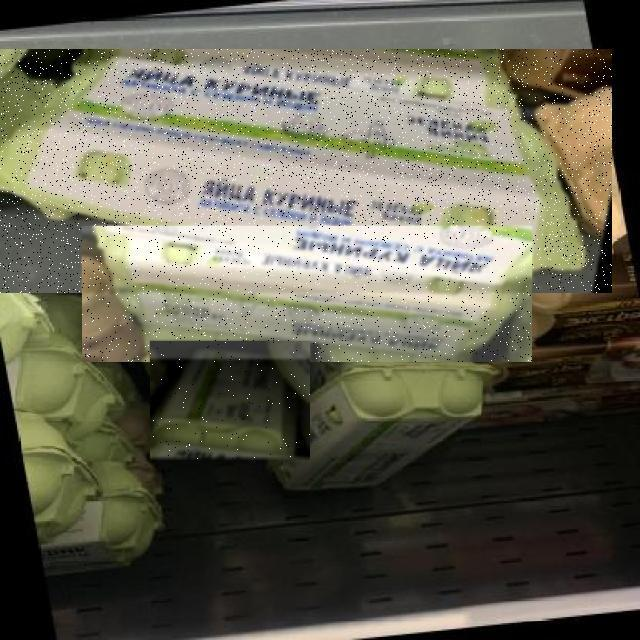egg: (30, 55, 593, 283), (75, 221, 516, 349), (12, 327, 185, 568), (311, 367, 466, 503)
